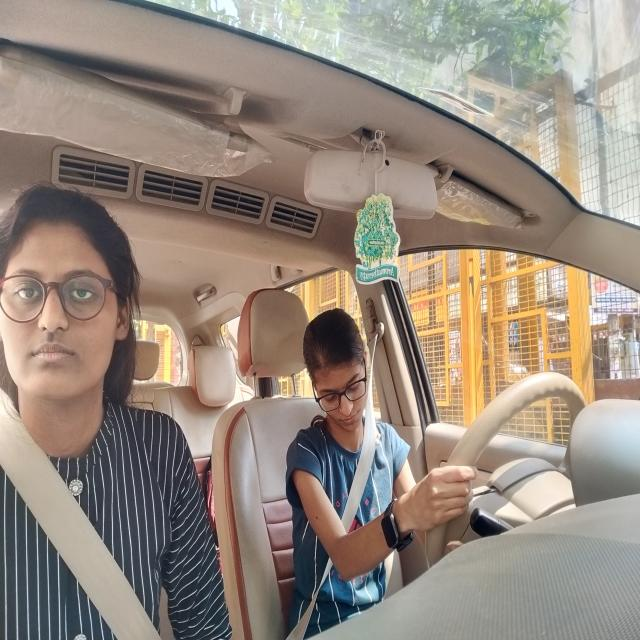drowsy: (300, 320, 380, 434)
person: (1, 200, 132, 406)
